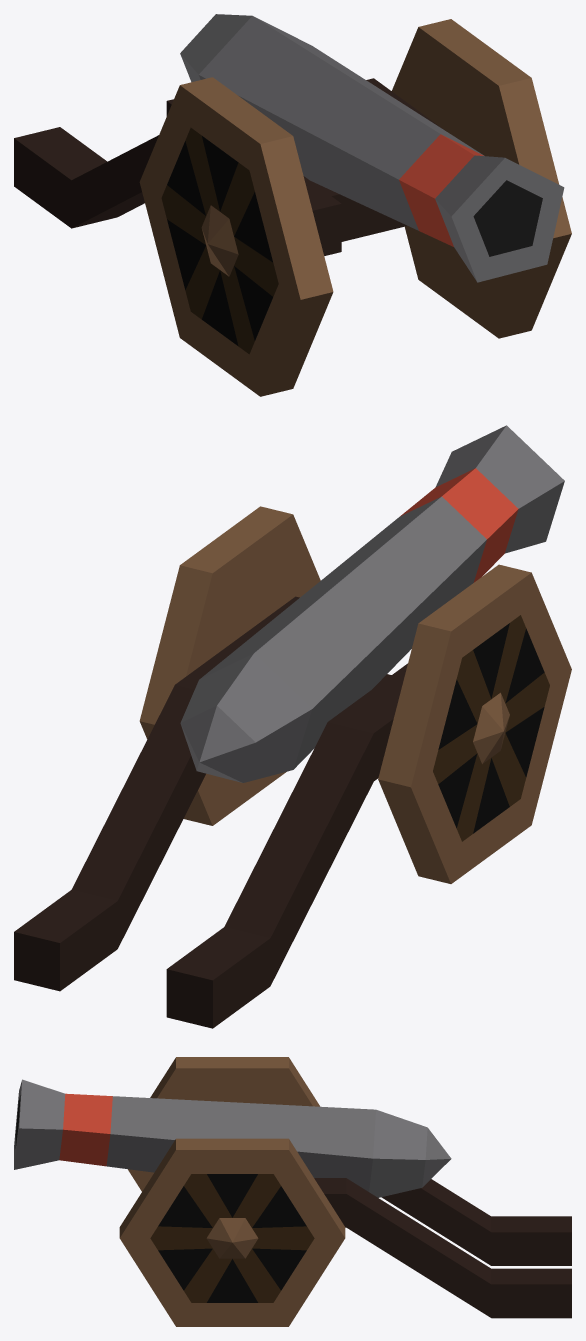
Rendered from Cannon_Tiny.fbx.
3 views of the same model, one above another, from view 1: azimuth 30°, elevation 25°; view 2: azimuth 150°, elevation 25°; view 3: azimuth 270°, elevation 25° (orthographic). The views are drawn at different scales.
Parts seen in each view (by area): view 1: SM_Prop_Pirate_Cannon_01; view 2: SM_Prop_Pirate_Cannon_01; view 3: SM_Prop_Pirate_Cannon_01.
Boxes of the visible parts, bbox=[...] form: SM_Prop_Pirate_Cannon_01: bbox=[14, 14, 571, 396]; SM_Prop_Pirate_Cannon_01: bbox=[14, 425, 571, 1028]; SM_Prop_Pirate_Cannon_01: bbox=[14, 1057, 571, 1326].
Bounding box in the file's own units: 62.29 × 58.68 × 145.
